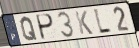2: (113, 6, 131, 32)
3: (56, 11, 75, 39)
K: (74, 10, 95, 36)
L: (92, 8, 113, 36)
P: (36, 13, 56, 41)
Q: (19, 16, 38, 42)
